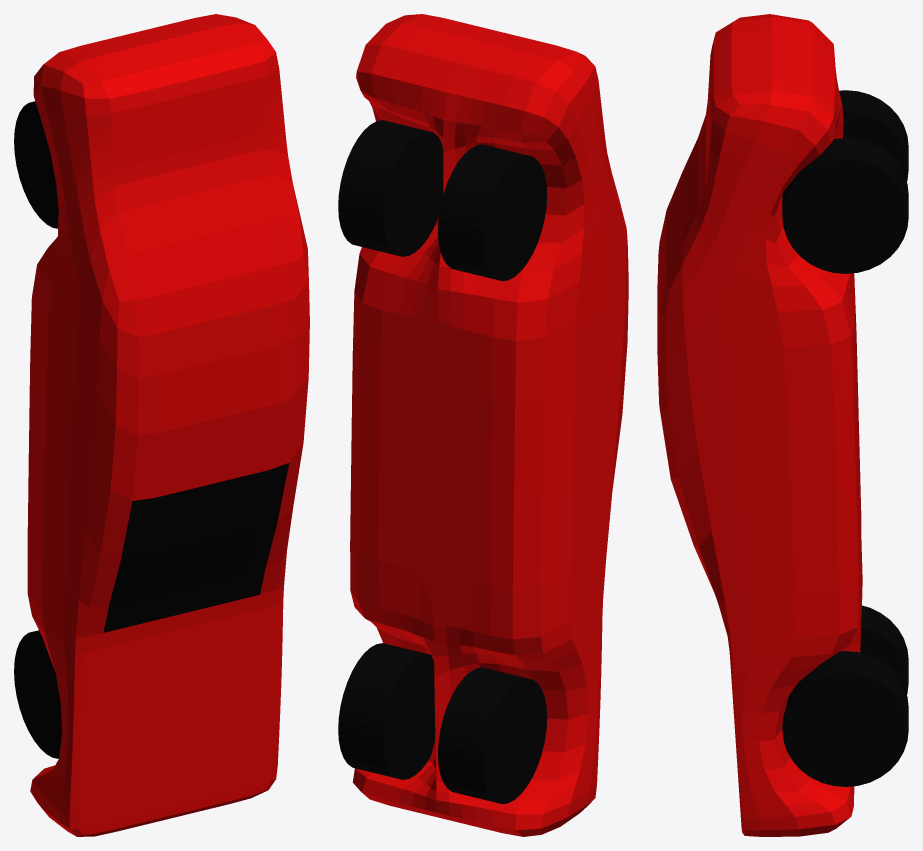
Rendered from car.fbx.
The picture shows the model from 3 angles, left to right: view 1: azimuth 30°, elevation 25°; view 2: azimuth 150°, elevation 25°; view 3: azimuth 270°, elevation 25°; orthographic projection. The views are drawn at different scales.
Parts seen in each view (by area): view 1: Cylinder.001; view 2: Cylinder.001; view 3: Cylinder.001.
Part boxes in pixels (box(x1,y1,x2,y2)): Cylinder.001: box(14, 14, 309, 836); Cylinder.001: box(338, 14, 628, 836); Cylinder.001: box(657, 14, 908, 836).
Bounding box in the file's own units: 226 × 789 × 242.
